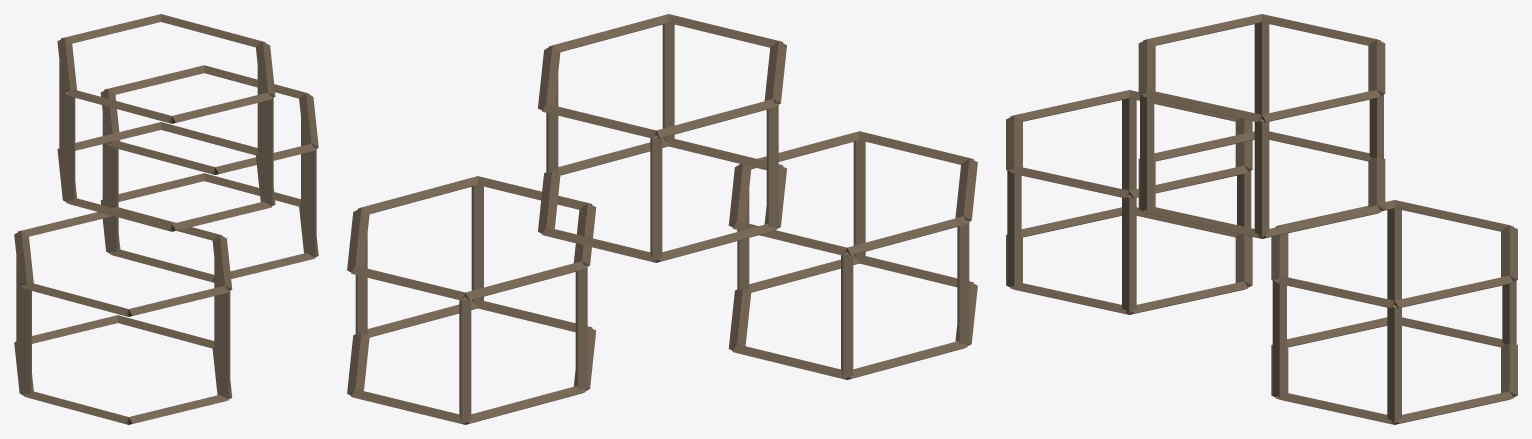
The model's file is fish_trap_stack.glb.
3 views of the same model, side by side, from view 1: azimuth 30°, elevation 25°; view 2: azimuth 150°, elevation 25°; view 3: azimuth 270°, elevation 25° (orthographic). The views are drawn at different scales.
Parts seen in each view (by area): view 1: fish_trap_stack; view 2: fish_trap_stack; view 3: fish_trap_stack.
Boxes of the visible parts, left/top/right/bottom form: fish_trap_stack: left=14, top=14, right=318, bottom=424; fish_trap_stack: left=347, top=14, right=977, bottom=424; fish_trap_stack: left=1006, top=14, right=1517, bottom=424.
Bounding box in the file's own units: 2 × 1.1 × 2.
